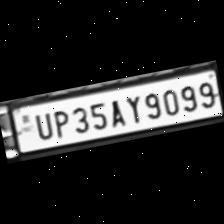0: (158, 85, 180, 117)
3: (66, 102, 90, 135)
5: (86, 98, 110, 132)
9: (138, 90, 163, 122), (176, 82, 200, 114), (194, 78, 218, 110)
A: (104, 97, 126, 128)
P: (48, 105, 72, 138)
U: (30, 110, 55, 141)
Y: (120, 92, 144, 124)
